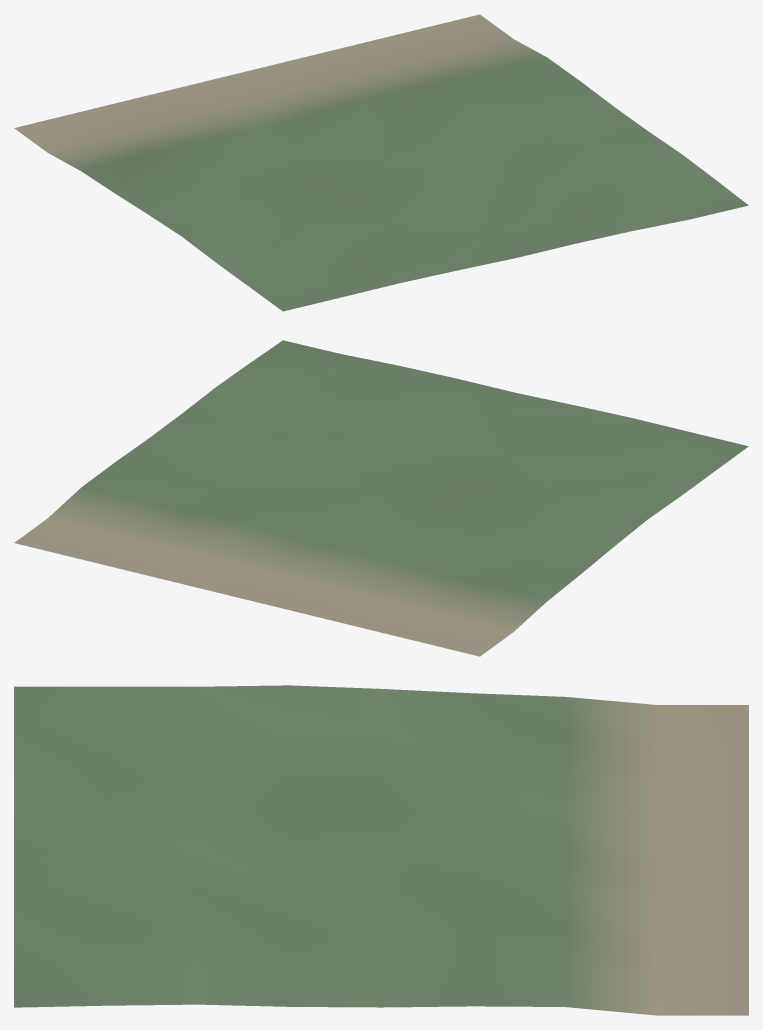
The picture shows the model from 3 angles, top to bottom: view 1: azimuth 30°, elevation 25°; view 2: azimuth 150°, elevation 25°; view 3: azimuth 270°, elevation 25°; orthographic projection. The views are drawn at different scales.
Parts seen in each view (by area): view 1: Lo; view 2: Lo; view 3: Lo.
Boxes of the visible parts, bbox=[...] form: Lo: bbox=[14, 14, 748, 311]; Lo: bbox=[14, 340, 748, 656]; Lo: bbox=[14, 685, 748, 1015].
Bounding box in the file's own units: 256 × 7.53 × 256.
